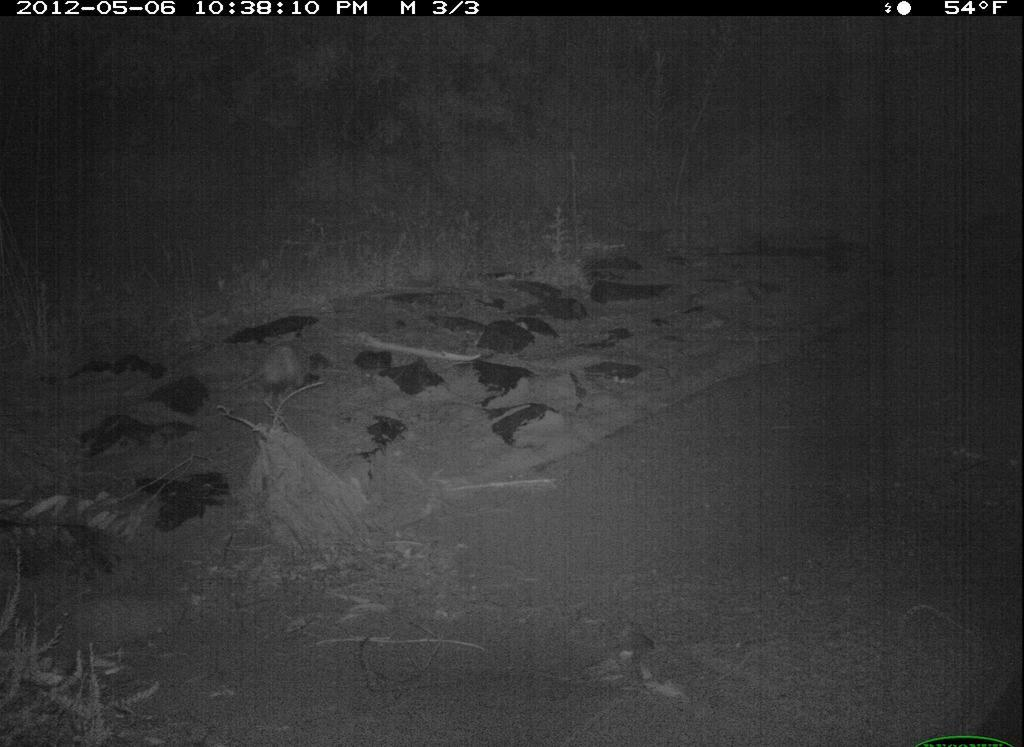opossum: (221, 336, 319, 404)
